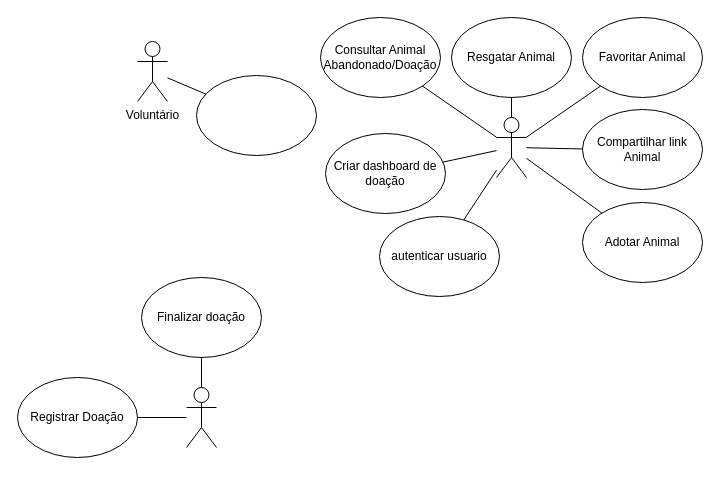
This 720x486 diagram has some shape labels left out. Here are the shapes that lost their labels. From the top down, the centre of each, then its label:
point 256,115: Registrar animal abandonado
point 511,147: Adotante
point 201,417: Tutor
